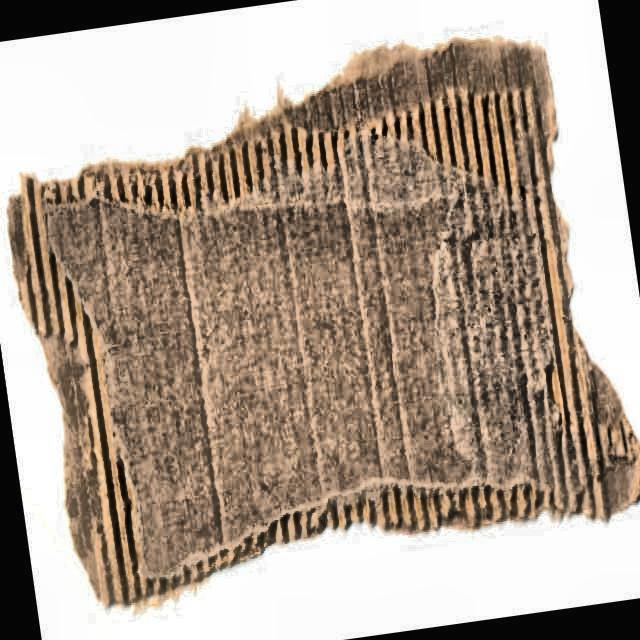cardboard: (6, 36, 640, 609)
